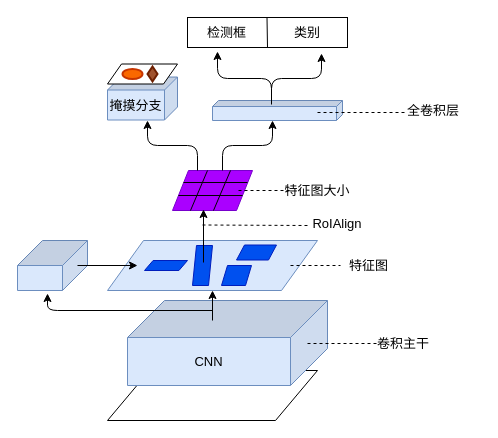
The diagram is 498 pixels wide and 438 high, and some of its shapes have lost their labels. Each missing label, with the centre of its shape:
"RPN" belongs at pixel 52 265.
"图像" belongs at pixel 212 395.
